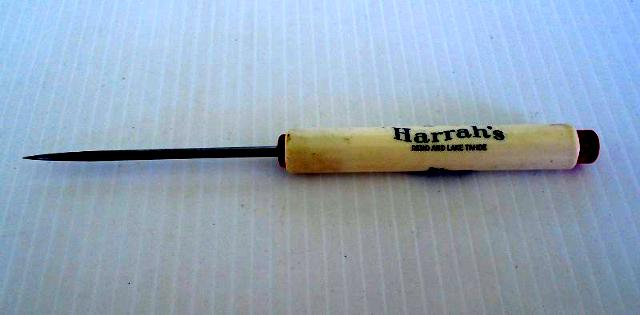ice pick: (23, 122, 601, 174)
